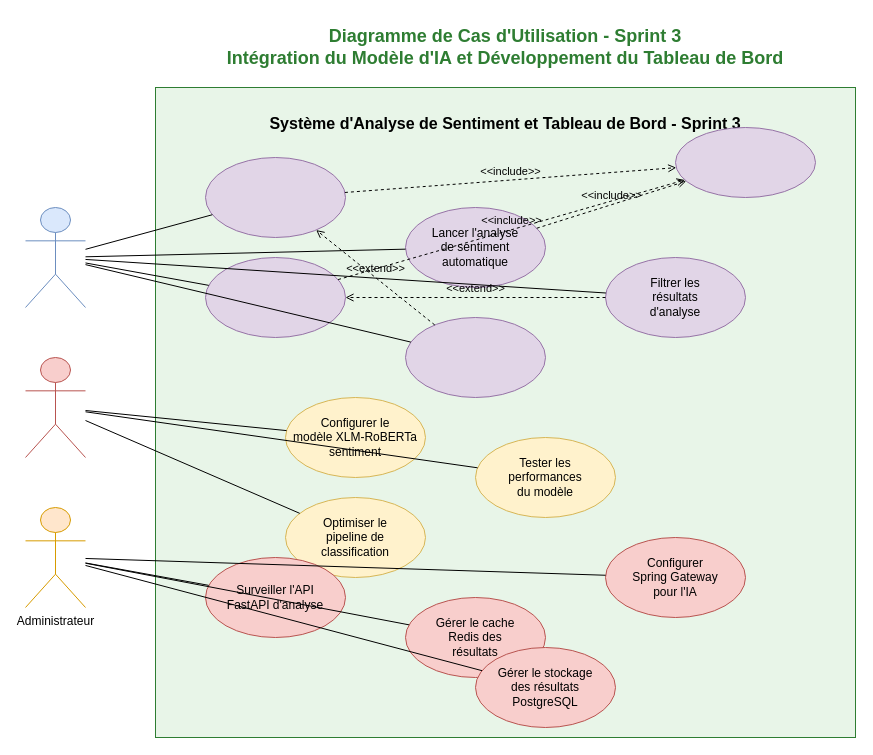
The diagram is 873 pixels wide and 755 high, and some of its shapes have lost their labels. The shapes that lost their labels are listed below. From the top down, each one's centre as x and y in pixels, then its label:
the point at 745,162: S'authentifier via Keycloak
the point at 275,197: Consulter le tableau de bord d'analyse
the point at 55,257: Utilisateur
the point at 275,297: Visualiser les statistiques de sentiments
the point at 475,357: Consulter les graphiques de tendances
the point at 55,407: Ingénieur ML
